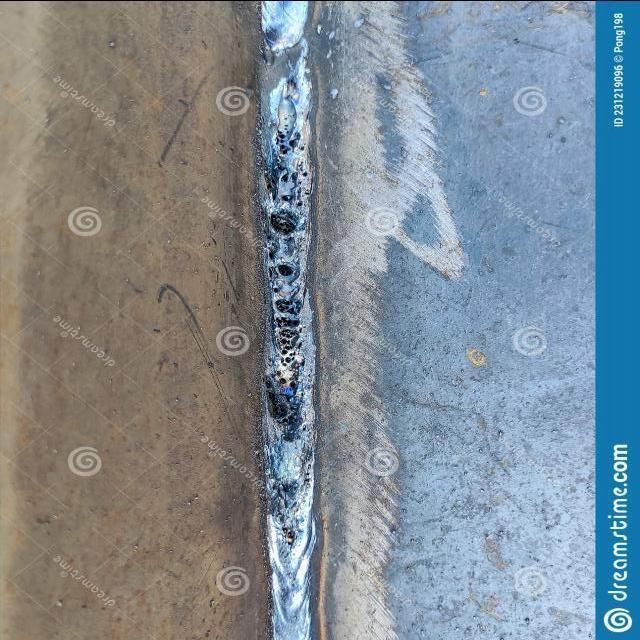defect: (258, 248, 309, 429), (260, 111, 312, 208), (268, 207, 300, 238), (275, 523, 301, 547)
